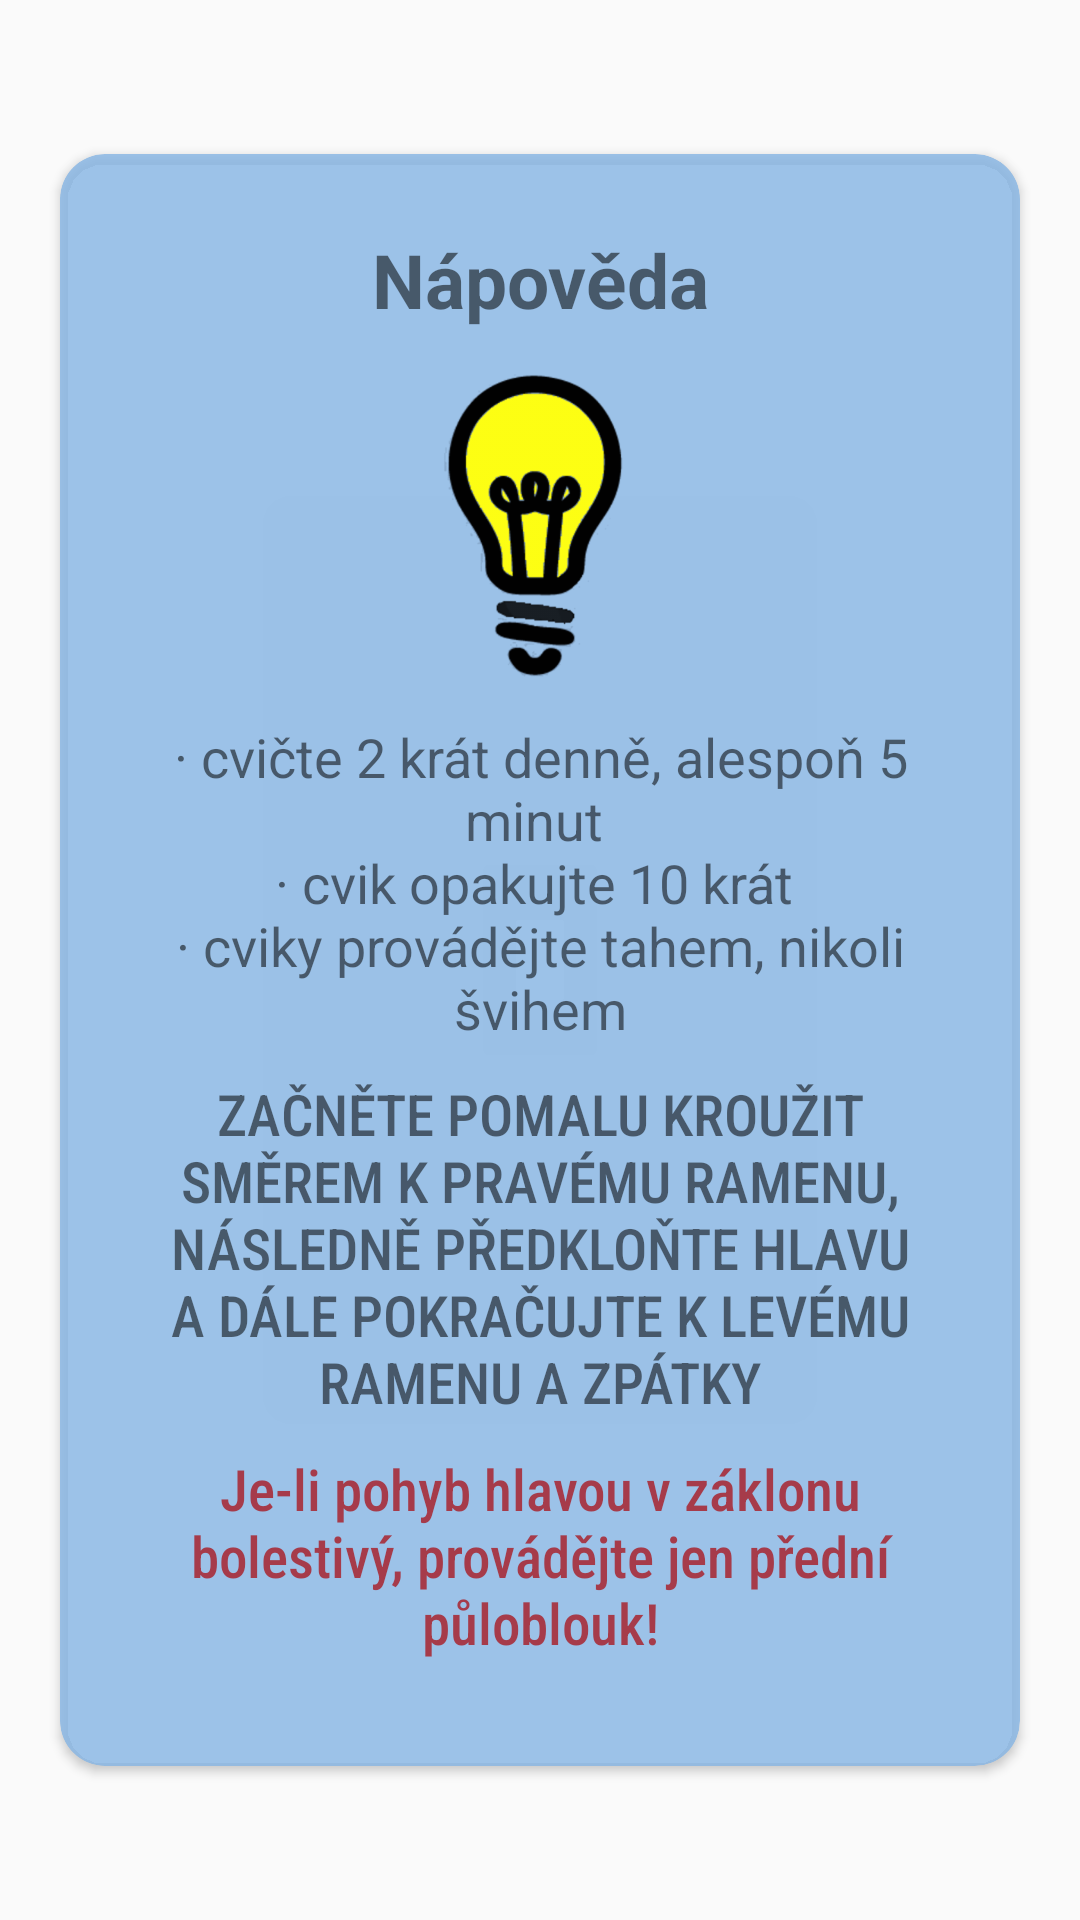

Point at icon controls on the screen. Image size 1080px×1920px, points as (x,y).
zarovka on: (533,525)
